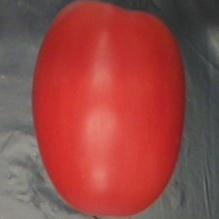unripe: (29, 0, 191, 219)
